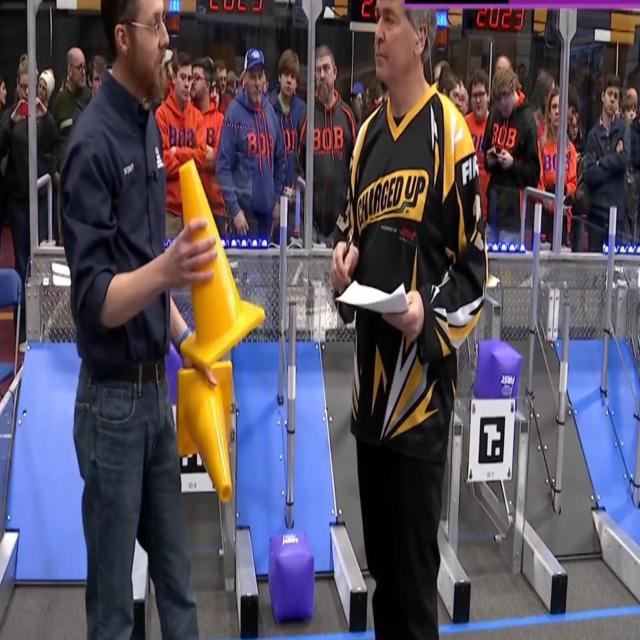frc_cone: (179, 160, 265, 367), (174, 361, 237, 507)
frc_cube: (268, 531, 315, 623), (474, 338, 521, 406)
